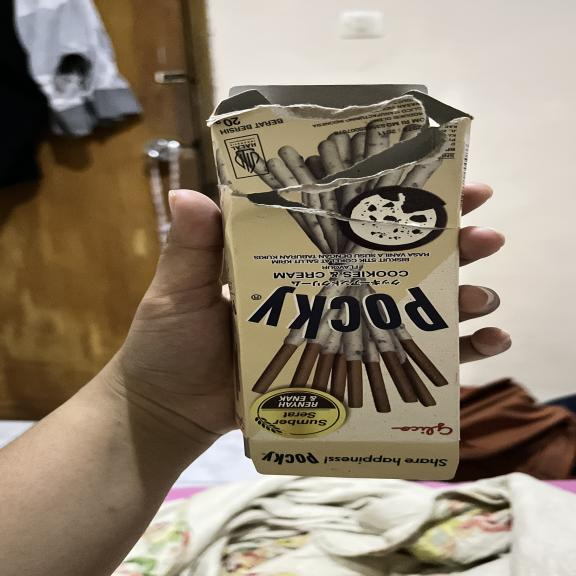Kertas: (208, 113, 472, 444)
